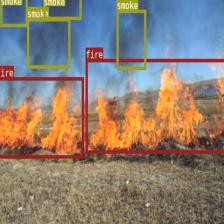fire: (84, 58, 224, 151), (0, 76, 83, 157)
smoke: (27, 17, 70, 68), (116, 9, 146, 69), (43, 0, 81, 19), (0, 0, 27, 26)
